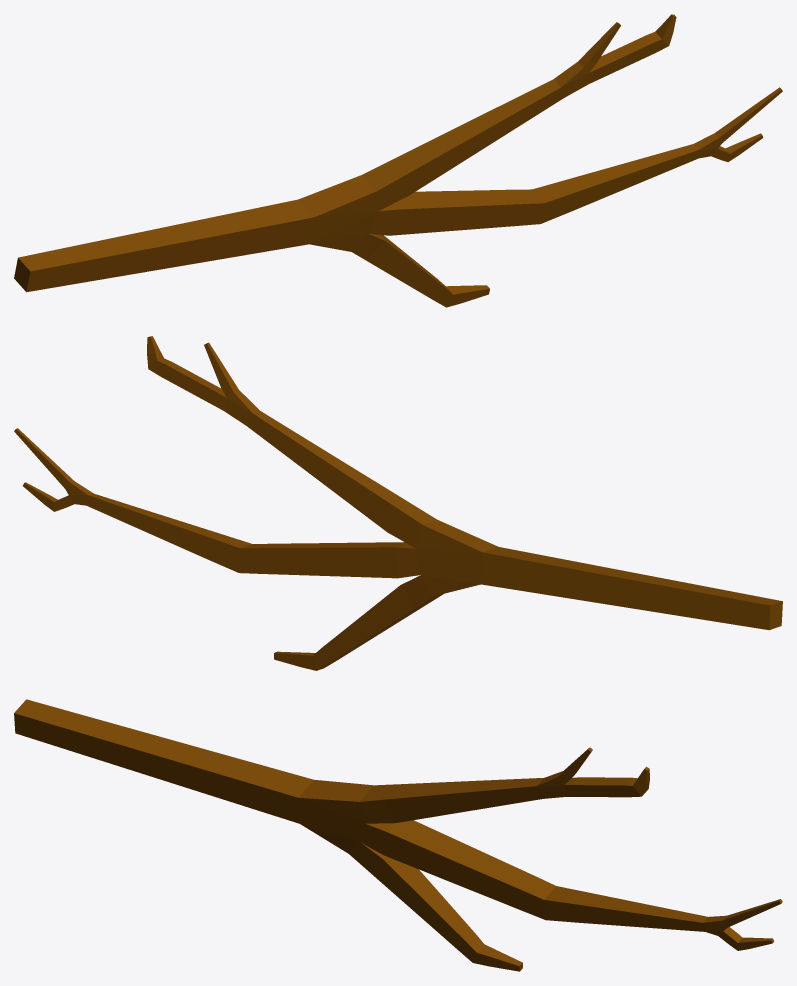
File: branch.fbx
The picture shows the model from 3 angles, top to bottom: view 1: azimuth 30°, elevation 25°; view 2: azimuth 150°, elevation 25°; view 3: azimuth 330°, elevation 25°; orthographic projection.
Parts seen in each view (by area): view 1: Cube; view 2: Cube; view 3: Cube.
Part boxes in pixels (x1,y1,x2,y2): Cube: (14,14,782,307); Cube: (14,336,782,670); Cube: (14,699,782,971).
Bounding box in the file's own units: 487 × 165 × 40.25.
